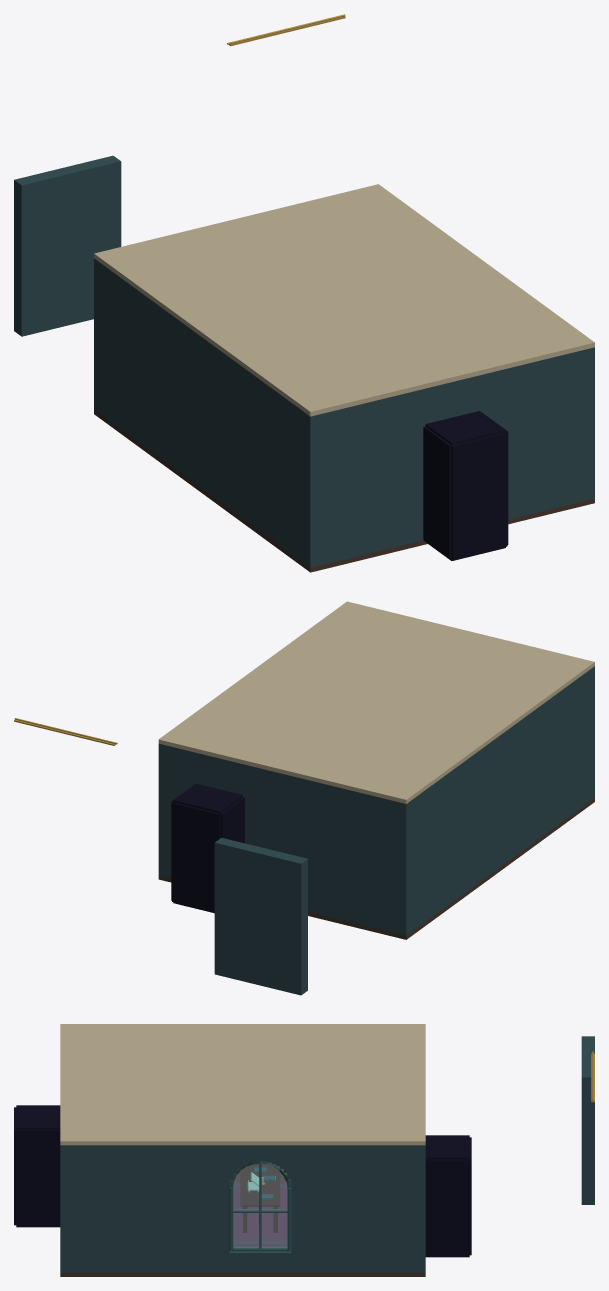
Rendered from level-2.glb.
3 views of the same model, one above another, from view 1: azimuth 30°, elevation 25°; view 2: azimuth 150°, elevation 25°; view 3: azimuth 270°, elevation 25° (orthographic). The views are drawn at different scales.
Parts seen in each view (by area): view 1: Ceiling, Wall_S, Wall_W, Chimney_Breast, Hall_Vestibule, Floor; view 2: Ceiling, Wall_W, Wall_N, Chimney_Breast, Kitchen_Vestibule, Floor, Wall_S; view 3: Ceiling, Wall_E, Hall_Vestibule, Kitchen_Vestibule, Window_Glass, Chimney_Breast, Rug, Window_Frame, Floor, Reading_Table, Wall_S, Wall_N.
Boxes of the visible parts, x1,y1,x2,y2 form: Ceiling: (94,184,594,416); Wall_S: (306,347,594,567); Wall_W: (98,261,306,564); Chimney_Breast: (14,155,121,336); Hall_Vestibule: (423,411,508,560); Floor: (94,409,594,572); Ceiling: (158,601,594,803); Wall_W: (410,669,591,932); Wall_N: (158,743,409,935); Chimney_Breast: (214,837,307,995); Kitchen_Vestibule: (171,783,244,913); Floor: (158,798,594,939); Wall_S: (591,666,594,799); Ceiling: (60,1024,425,1145); Wall_E: (66,1145,418,1272); Hall_Vestibule: (14,1105,60,1227); Kitchen_Vestibule: (425,1135,471,1257); Window_Glass: (233,1164,287,1247); Chimney_Breast: (581,1036,594,1204); Rug: (229,1182,287,1245); Window_Frame: (229,1161,291,1253); Floor: (60,1172,425,1276); Reading_Table: (240,1164,280,1232); Wall_S: (60,1145,66,1272); Wall_N: (419,1145,425,1272).
Size of what is drawn, in the model's own units: 7.75 by 5.12 by 13.2.
